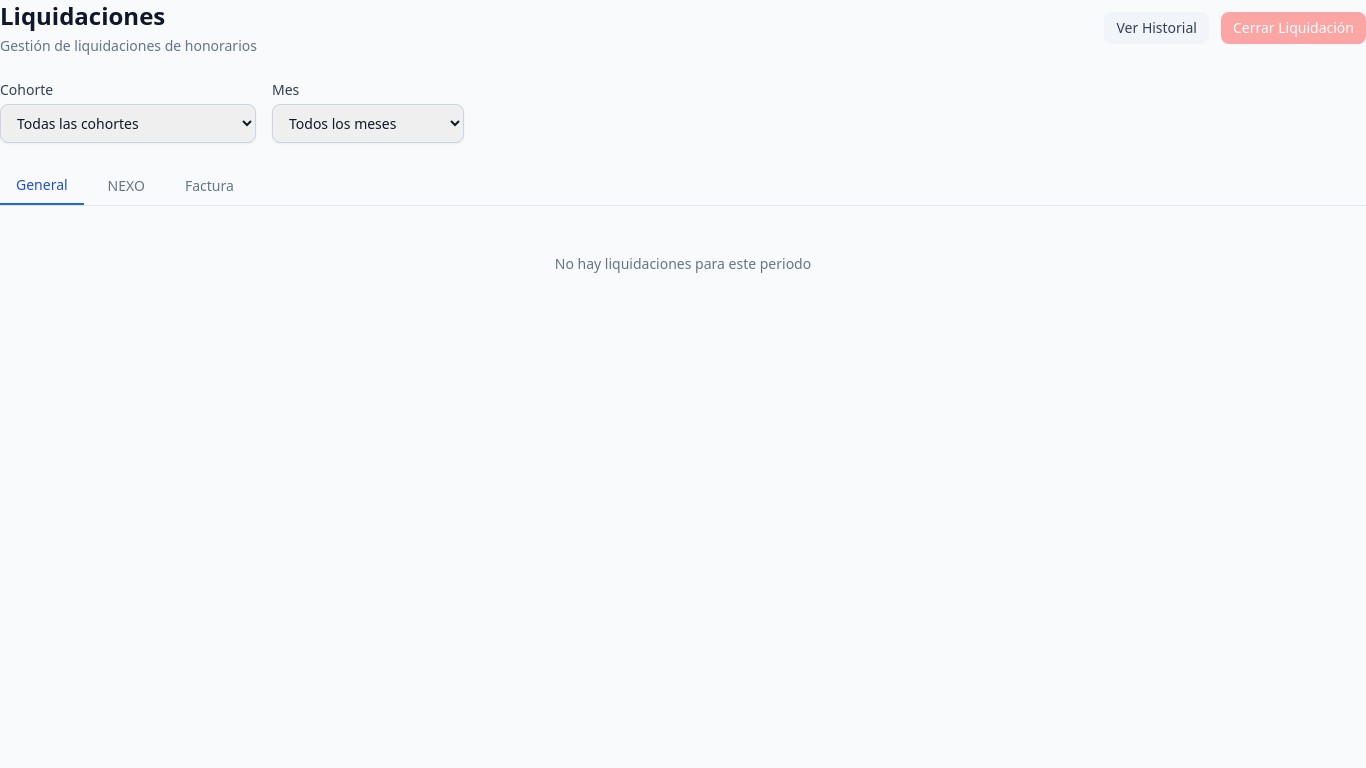
Test: Cerrar Liquidacion › muestra dialogo de confirmacion antes de cerrar
Expected: the button "Cerrar Liquidación" is shown, top-left (1221, 12), bottom-right (1365, 44)
Select "ING - Ingeniería" in the dropdown labelled "Cohorte" at (128, 124), box top-left (0, 104), bottom-right (256, 143)
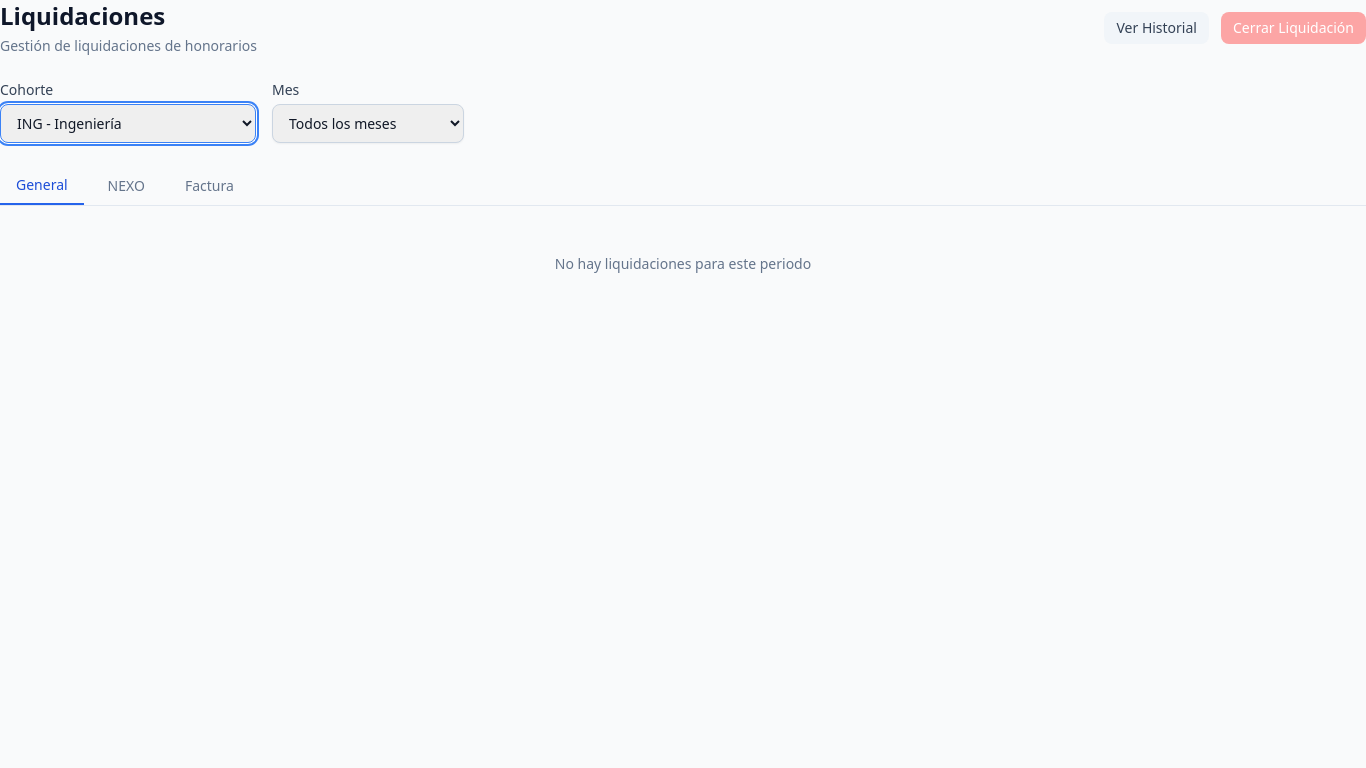
Select "Junio" in the dropdown labelled "Mes" at (368, 124), box top-left (272, 104), bottom-right (464, 143)
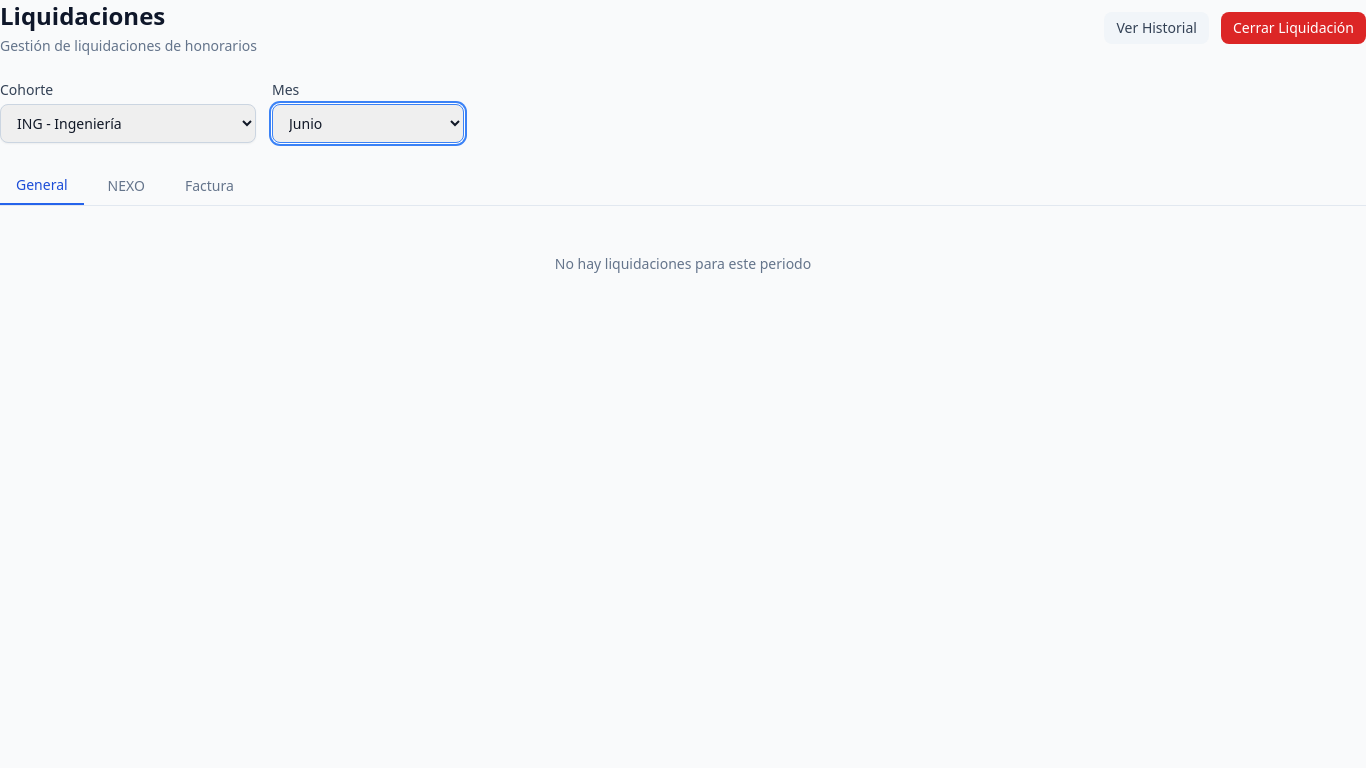
Result: the button "Cerrar Liquidación" is enabled
Click the button "Cerrar Liquidación" at (1294, 28), box top-left (1221, 12), bottom-right (1365, 44)
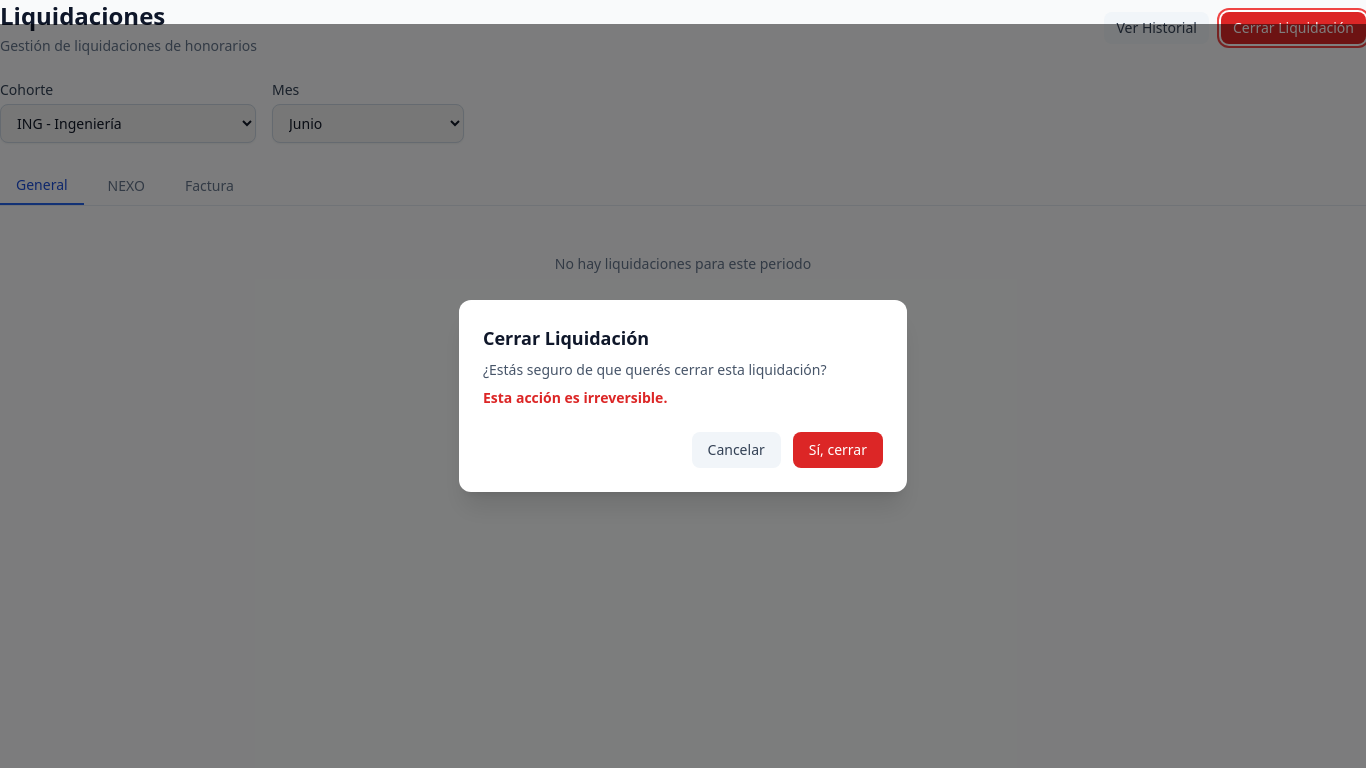
Result: the text "¿Estás seguro de que querés cerrar esta liquidación?" is shown at top-left (483, 360), bottom-right (883, 380)
Result: the text "Esta acción es irreversible." is shown at top-left (483, 388), bottom-right (667, 407)
